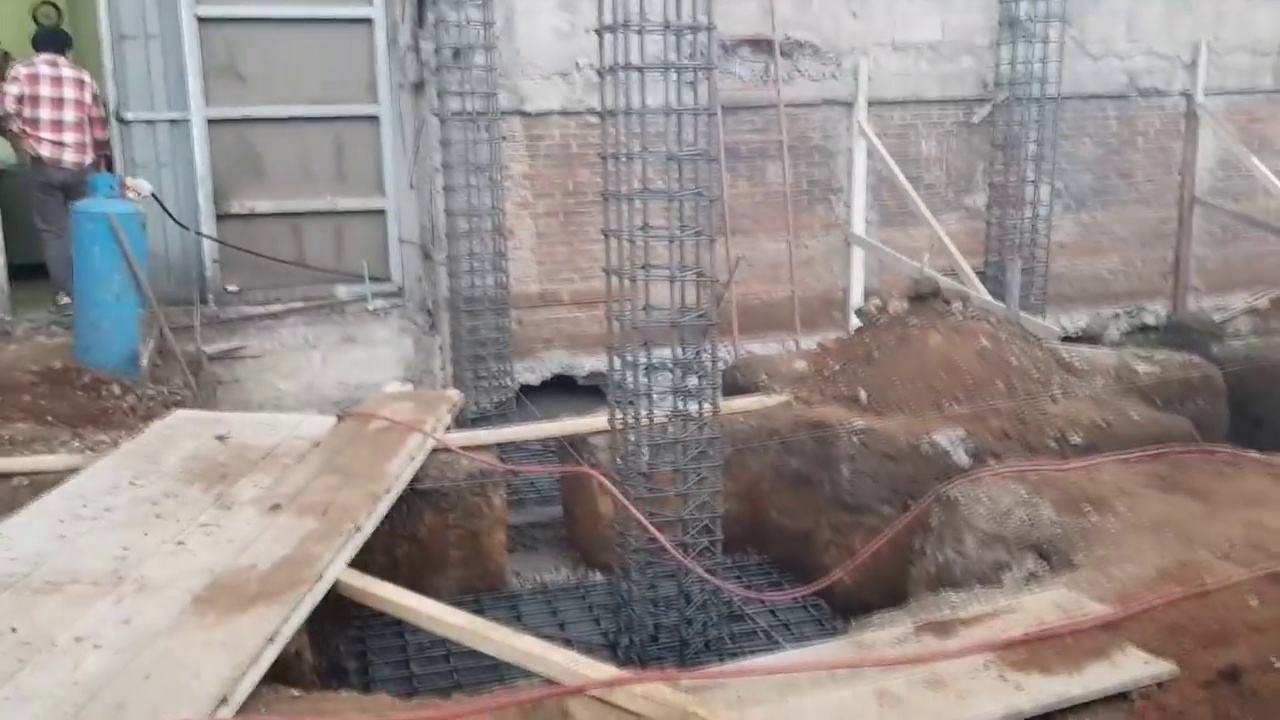helmet-off: (26, 16, 74, 63)
person: (2, 12, 108, 314)
